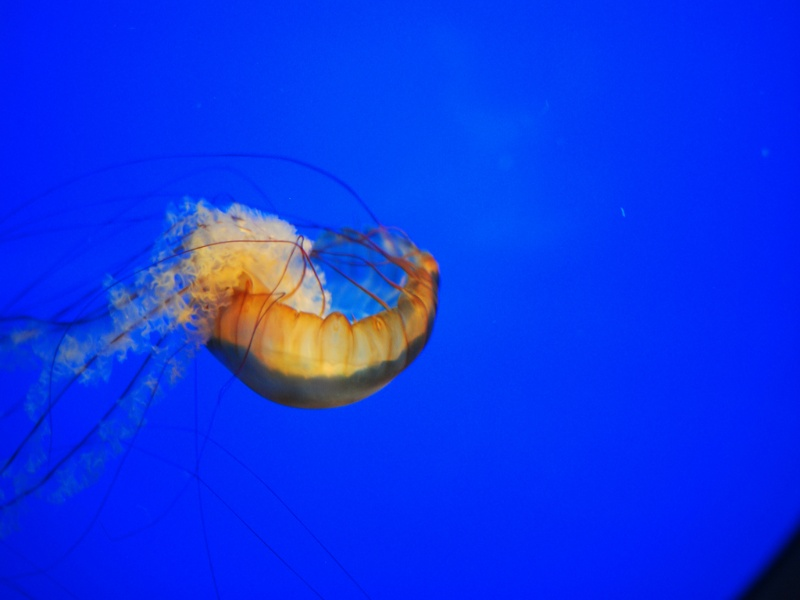Jellyfish: (0, 147, 441, 597)
